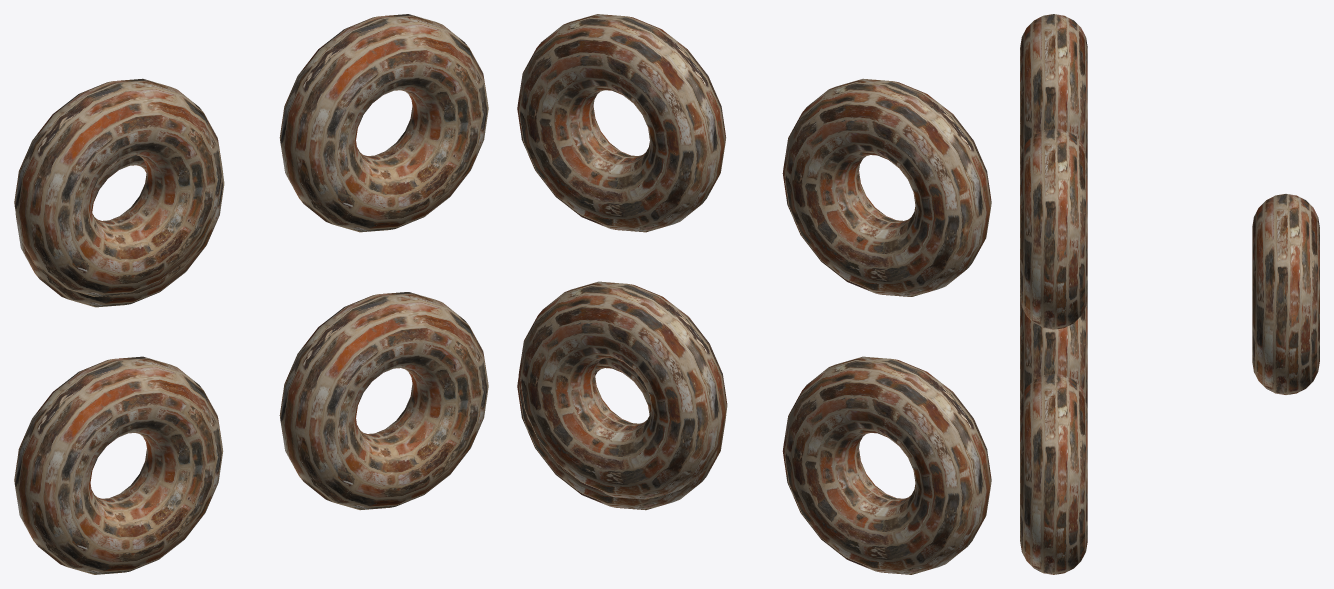
The model's file is NoDO-NATU.fbx.
The picture shows the model from 3 angles, left to right: view 1: azimuth 30°, elevation 25°; view 2: azimuth 150°, elevation 25°; view 3: azimuth 270°, elevation 25°; orthographic projection. The views are drawn at different scales.
Visible parts, largest first — view 1: pTorus7; view 2: pTorus7; view 3: pTorus7.
Boxes of the visible parts, bbox=[...] form: pTorus7: bbox=[14, 14, 488, 574]; pTorus7: bbox=[517, 14, 991, 574]; pTorus7: bbox=[1020, 14, 1319, 574].
Size of the model in its own units: 7 by 7 by 4.43.
1 material, 1 textured.
